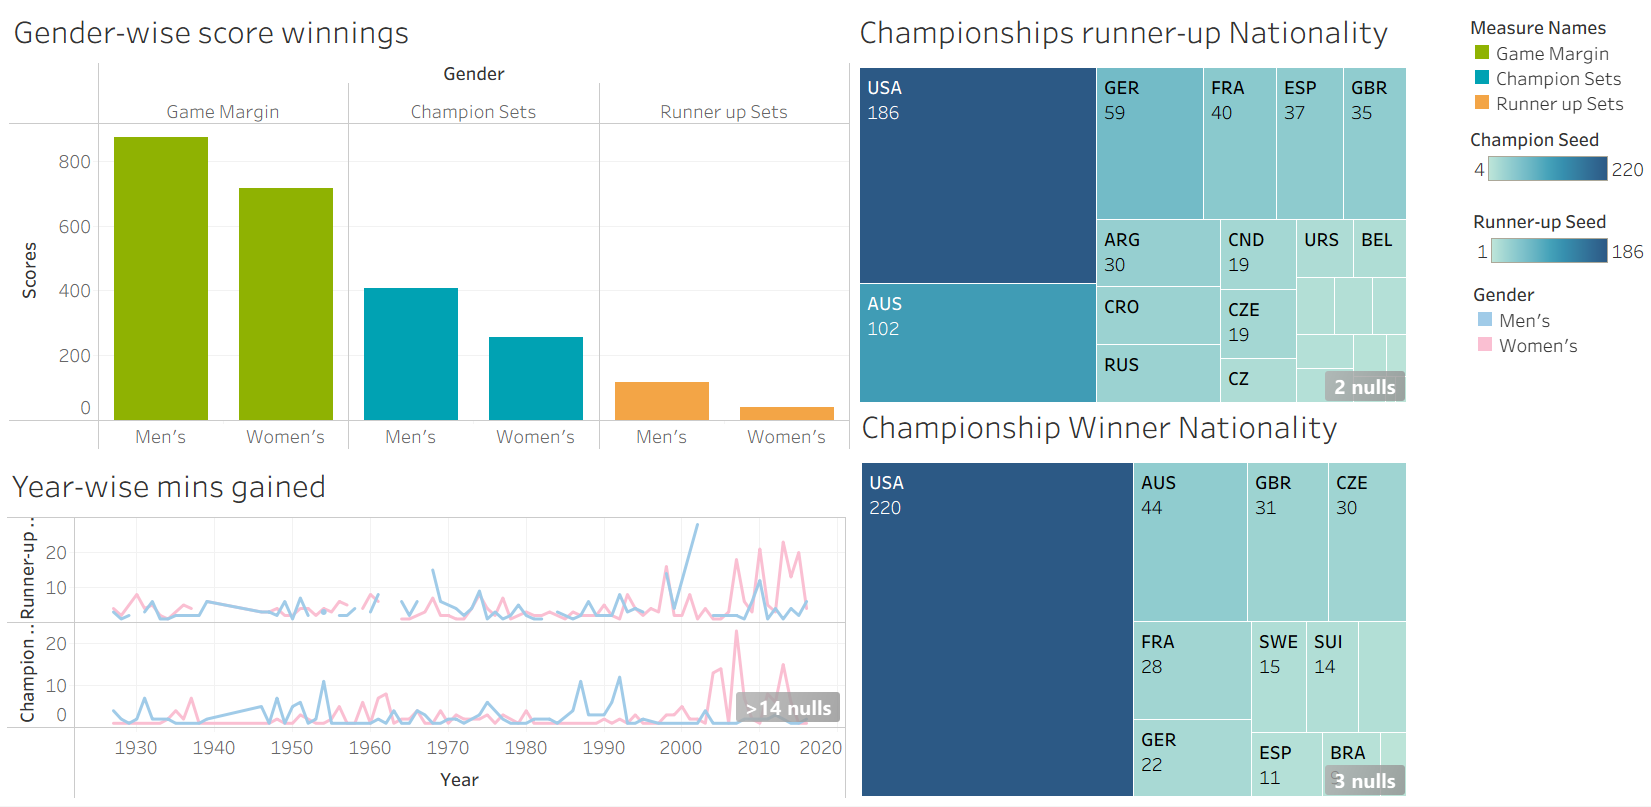

What the dashboard file says about the page in this screenshot:
{"tool":"tableau","page":{"name":"Dashboard 1","canvas":[1000,1000],"units":"permille","ordinal":0},"visuals":[{"type":"worksheet","title":"Winning analysis","mark":"Automatic","cols":["Gender"],"box":[5.6,7.4,507.5,550.9]},{"type":"worksheet","title":"Sheet 2 (2)","mark":"Automatic","box":[516.2,7.4,361.6,497.5]},{"type":"legend","title":"Winning analysis","param":"[federated.01jto3704wzyrt1ezxsug0gk7e6s].[:Measure Names]","box":[887.2,17.4,108.5,125.3]},{"type":"legend","title":"Sheet 2","param":"[federated.01jto3704wzyrt1ezxsug0gk7e6s].[sum:Champion Seed:qk]","box":[887.2,156.3,107.9,124.1]},{"type":"legend","title":"Sheet 2 (2)","param":"[federated.01jto3704wzyrt1ezxsug0gk7e6s].[sum:Runner-up Seed:qk]","box":[889,258.1,106,124.1]},{"type":"legend","title":"Sheet 3","param":"[federated.01jto3704wzyrt1ezxsug0gk7e6s].[none:Gender:nk]","box":[889,348.6,102.9,94.3]},{"type":"worksheet","title":"Sheet 2","mark":"Automatic","box":[517.5,497.5,367.2,496.3]},{"type":"worksheet","title":"Sheet 3","mark":"Automatic","rows":["Runner-up Seed","Champion Seed"],"cols":["Year"],"box":[4.4,570.7,506.2,420.6]}]}

Visuals, with their boxes on the dashboard's canvas, which has no fixed pixel size, in thousandths of its width and height (x1, y1, x2, y2). These are canvas units, not pixel positions in the 1651x807 screenshot, which may show the page scaled, cropped or inside an application window:
"Winning analysis" worksheet: crop(6, 7, 513, 558)
"Sheet 2 (2)" worksheet: crop(516, 7, 878, 505)
"Winning analysis" legend: crop(887, 17, 996, 143)
"Sheet 2" legend: crop(887, 156, 995, 280)
"Sheet 2 (2)" legend: crop(889, 258, 995, 382)
"Sheet 3" legend: crop(889, 349, 992, 443)
"Sheet 2" worksheet: crop(518, 498, 885, 994)
"Sheet 3" worksheet: crop(4, 571, 511, 991)
